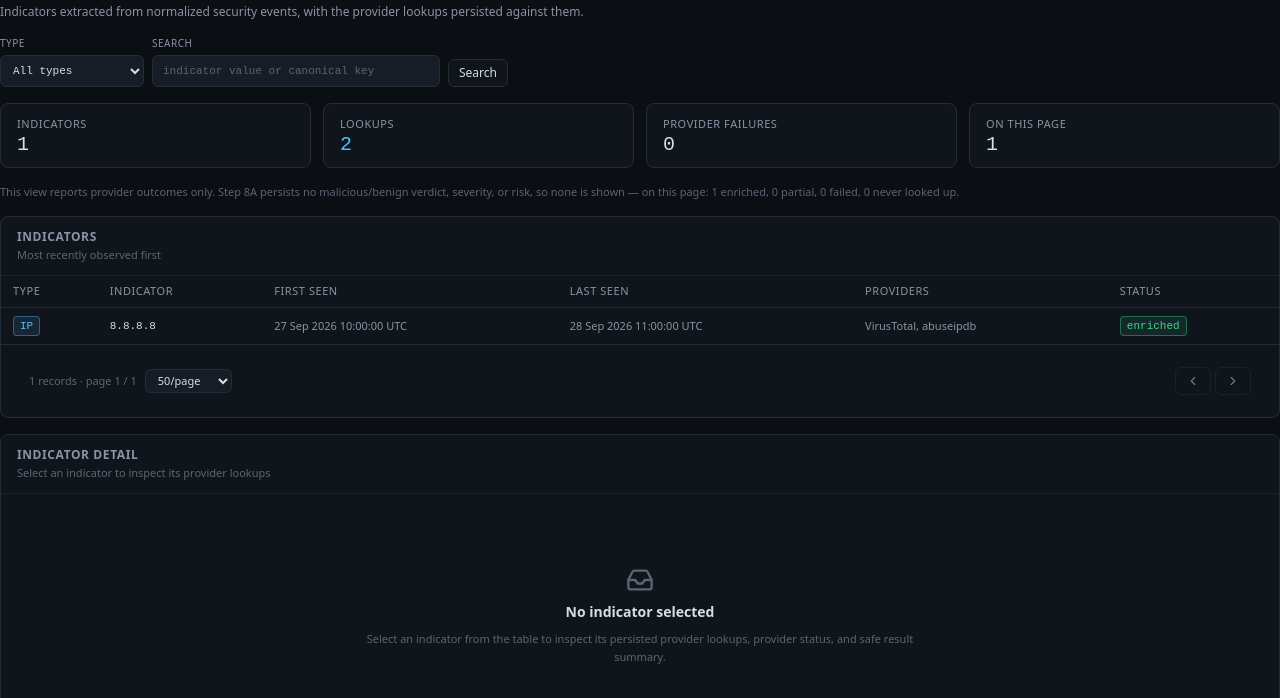
ThreatIntelPage — Step 8A read surface › renders safe provider evidence from the response and nothing more
Click the row with test id "ti-indicator-row". click: (640, 326)
box: [1,308,1279,344]
(page scrolled)
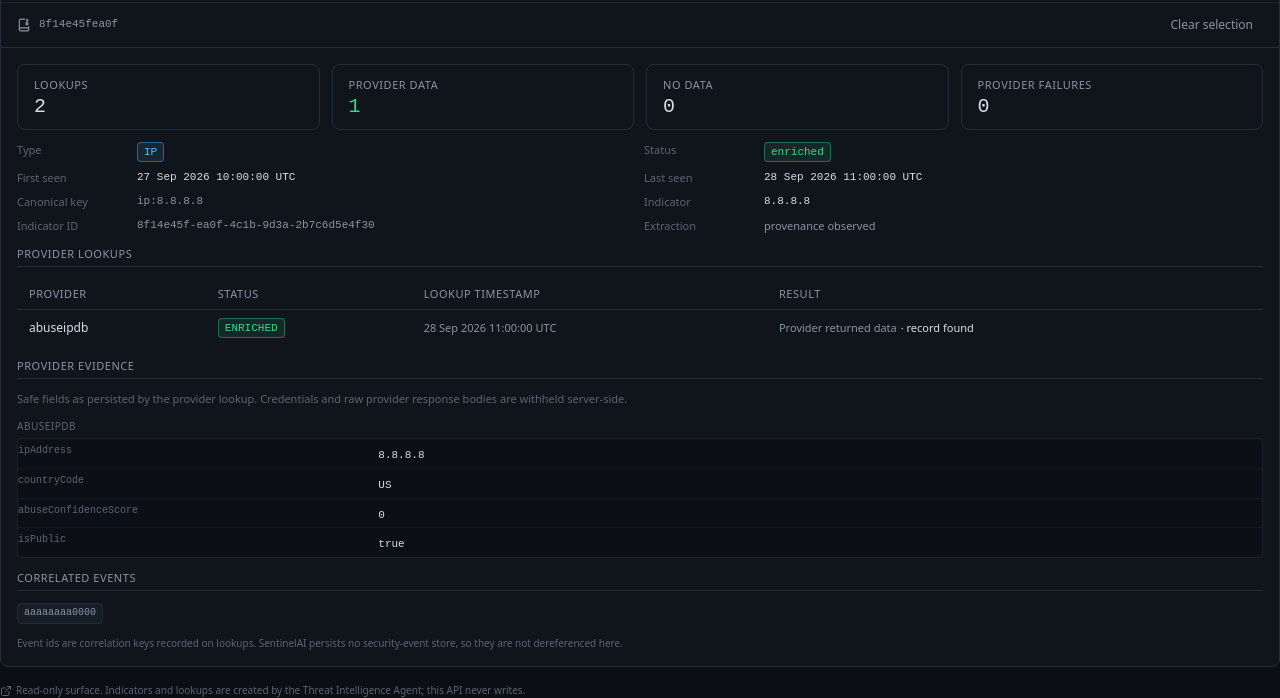
Expected: the element with test id "ti-evidence" shows "abuseipdb", [17,419,76,433]
Expected: the element with test id "ti-evidence" shows "8.8.8.8", [378,449,424,461]
Expected: the element with test id "ti-evidence" shows "countryCode", [18,475,84,486]
